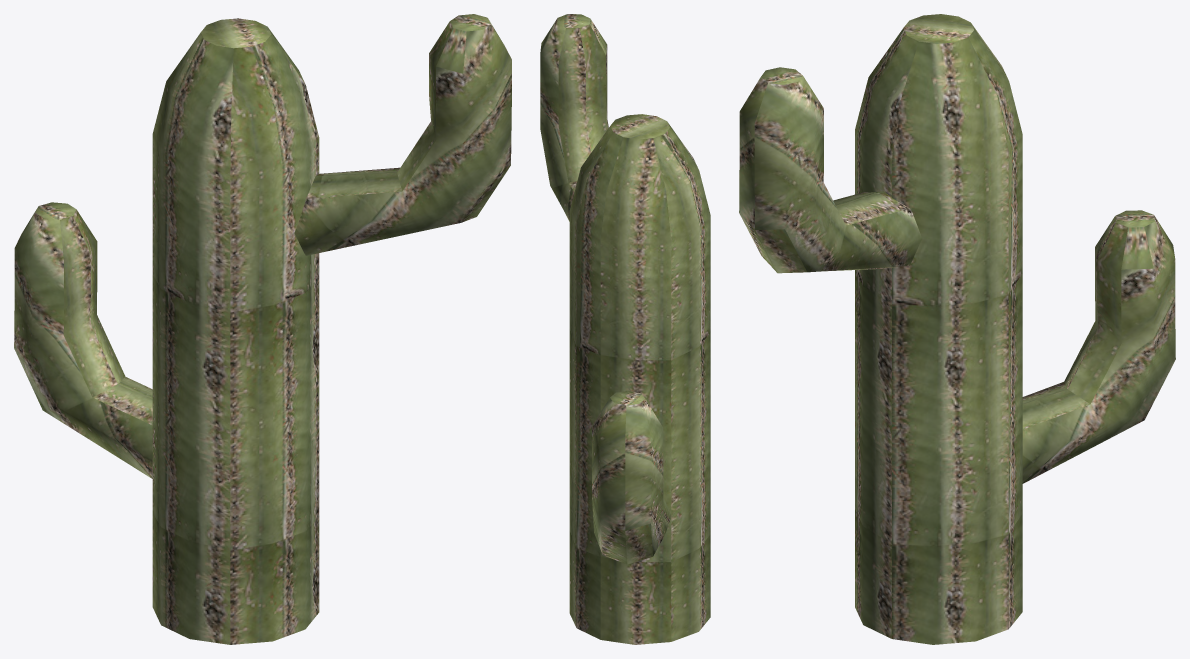
Rendered from cactus_5.obj.
3 renders of one model, left to right at view 1: azimuth 30°, elevation 25°; view 2: azimuth 150°, elevation 25°; view 3: azimuth 270°, elevation 25°, orthographic. The views are drawn at different scales.
Parts seen in each view (by area): view 1: cactus7; view 2: cactus7; view 3: cactus7.
Part boxes in pixels (bbox=[...]): cactus7: bbox=[14, 14, 511, 644]; cactus7: bbox=[540, 14, 710, 644]; cactus7: bbox=[739, 14, 1175, 644].
Bounding box in the file's own units: 3.24 × 6.05 × 3.92.
Materials: 1 (1 with a texture image).
